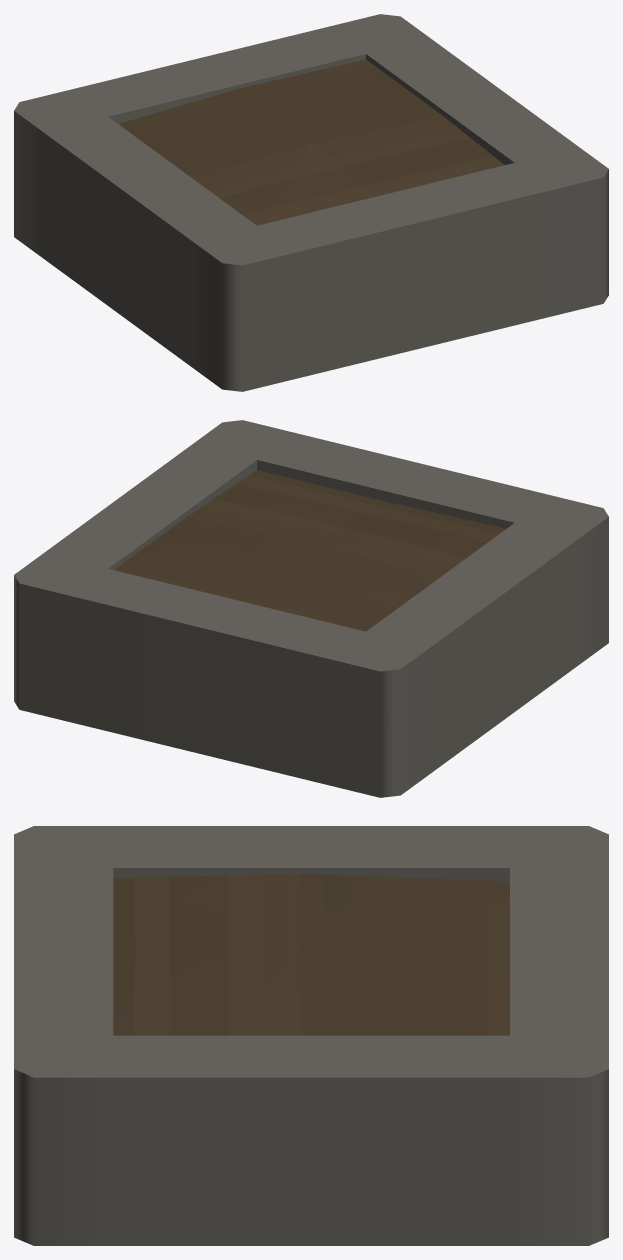
Rendered from objects_un_t06pavement01.gltf.
3 renders of one model, top to bottom at view 1: azimuth 30°, elevation 25°; view 2: azimuth 150°, elevation 25°; view 3: azimuth 270°, elevation 25°, orthographic. The views are drawn at different scales.
Visible parts, largest first — view 1: um_objects_un_t06pavement01_model_lod0Shape:objects_un_t06pa (×2); view 2: um_objects_un_t06pavement01_model_lod0Shape:objects_un_t06pa (×2); view 3: um_objects_un_t06pavement01_model_lod0Shape:objects_un_t06pa (×2).
Part boxes in pixels (left/top/right/bottom): um_objects_un_t06pavement01_model_lod0Shape:objects_un_t06pa (×2): left=14, top=14, right=608, bottom=391; um_objects_un_t06pavement01_model_lod0Shape:objects_un_t06pa (×2): left=14, top=420, right=608, bottom=797; um_objects_un_t06pavement01_model_lod0Shape:objects_un_t06pa (×2): left=14, top=826, right=608, bottom=1245.
Size of what is drawn, in the model's own units: 1.57 by 0.4916 by 1.57.
2 materials, 2 textured.
